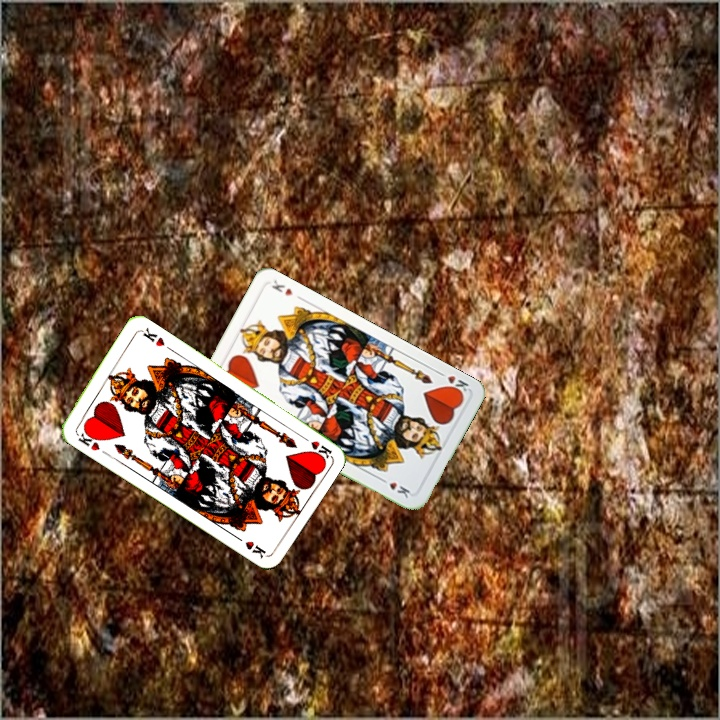HK: (434, 367, 471, 398), (296, 431, 334, 460), (74, 425, 103, 453)
